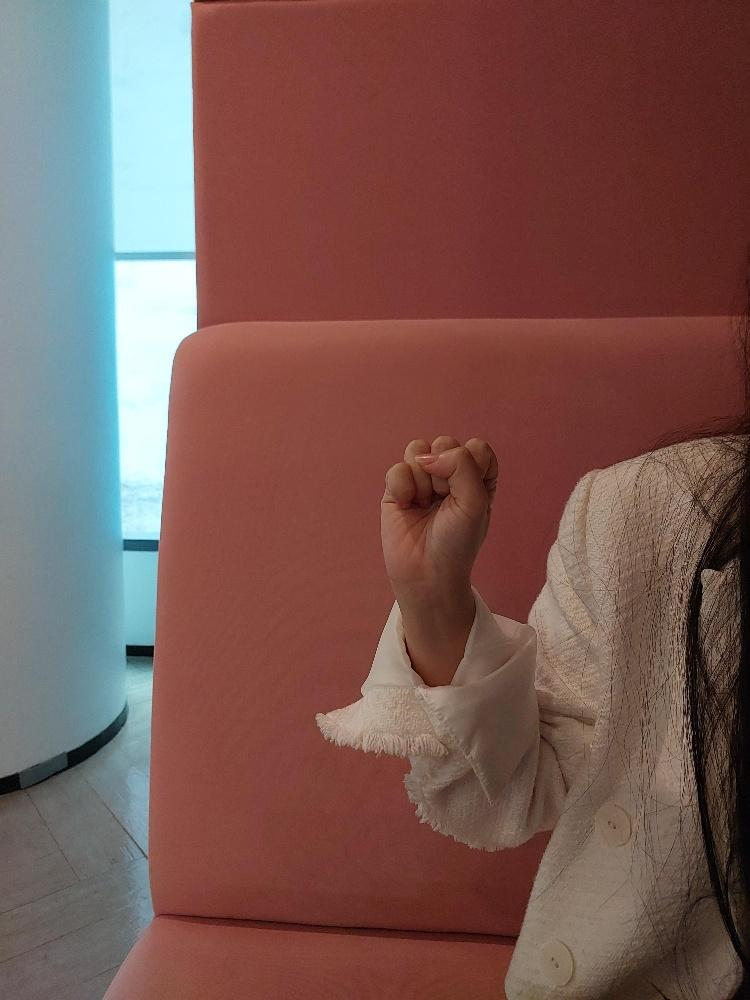s: (379, 433, 497, 566)
